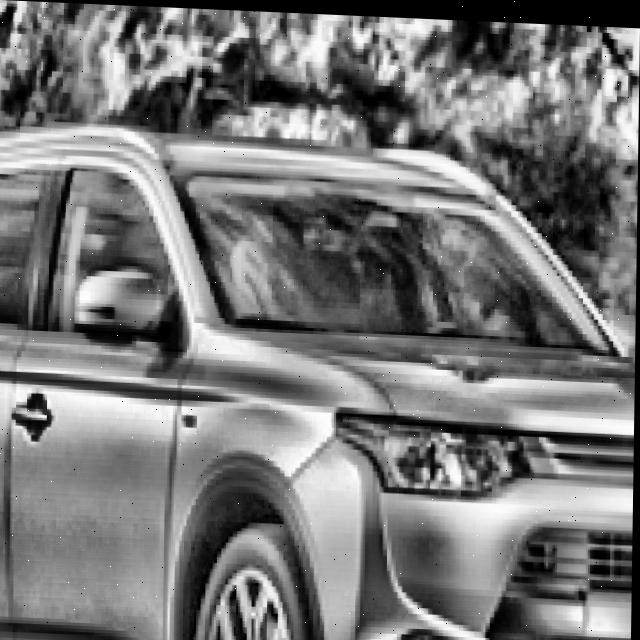light_vehicle: (0, 116, 639, 640)
